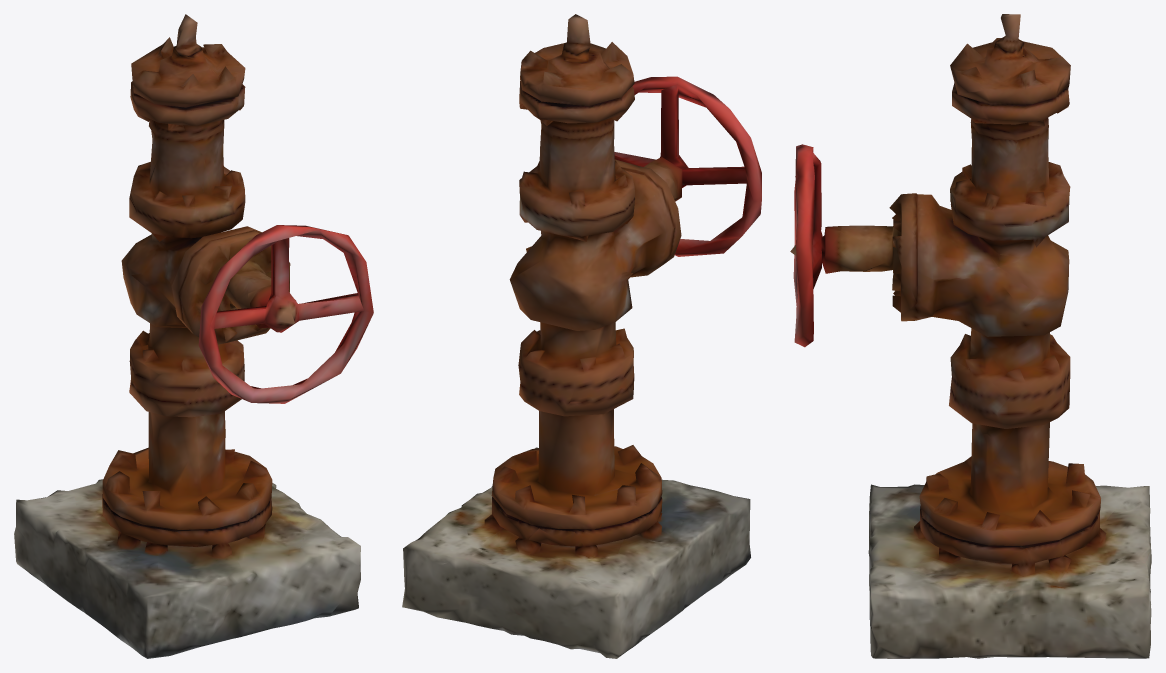
The model's file is valve_stand.5f14a56d48.glb.
The picture shows the model from 3 angles, left to right: view 1: azimuth 30°, elevation 25°; view 2: azimuth 150°, elevation 25°; view 3: azimuth 270°, elevation 25°; orthographic projection. The views are drawn at different scales.
Parts seen in each view (by area): view 1: valve_stand; view 2: valve_stand; view 3: valve_stand.
Part boxes in pixels (box(x1,y1,x2,y2)): valve_stand: box(14, 14, 373, 658); valve_stand: box(402, 14, 761, 658); valve_stand: box(790, 14, 1151, 658).
Bounding box in the file's own units: 0.6052 × 1.5 × 0.8285.
Materials: 1 (1 with a texture image).
